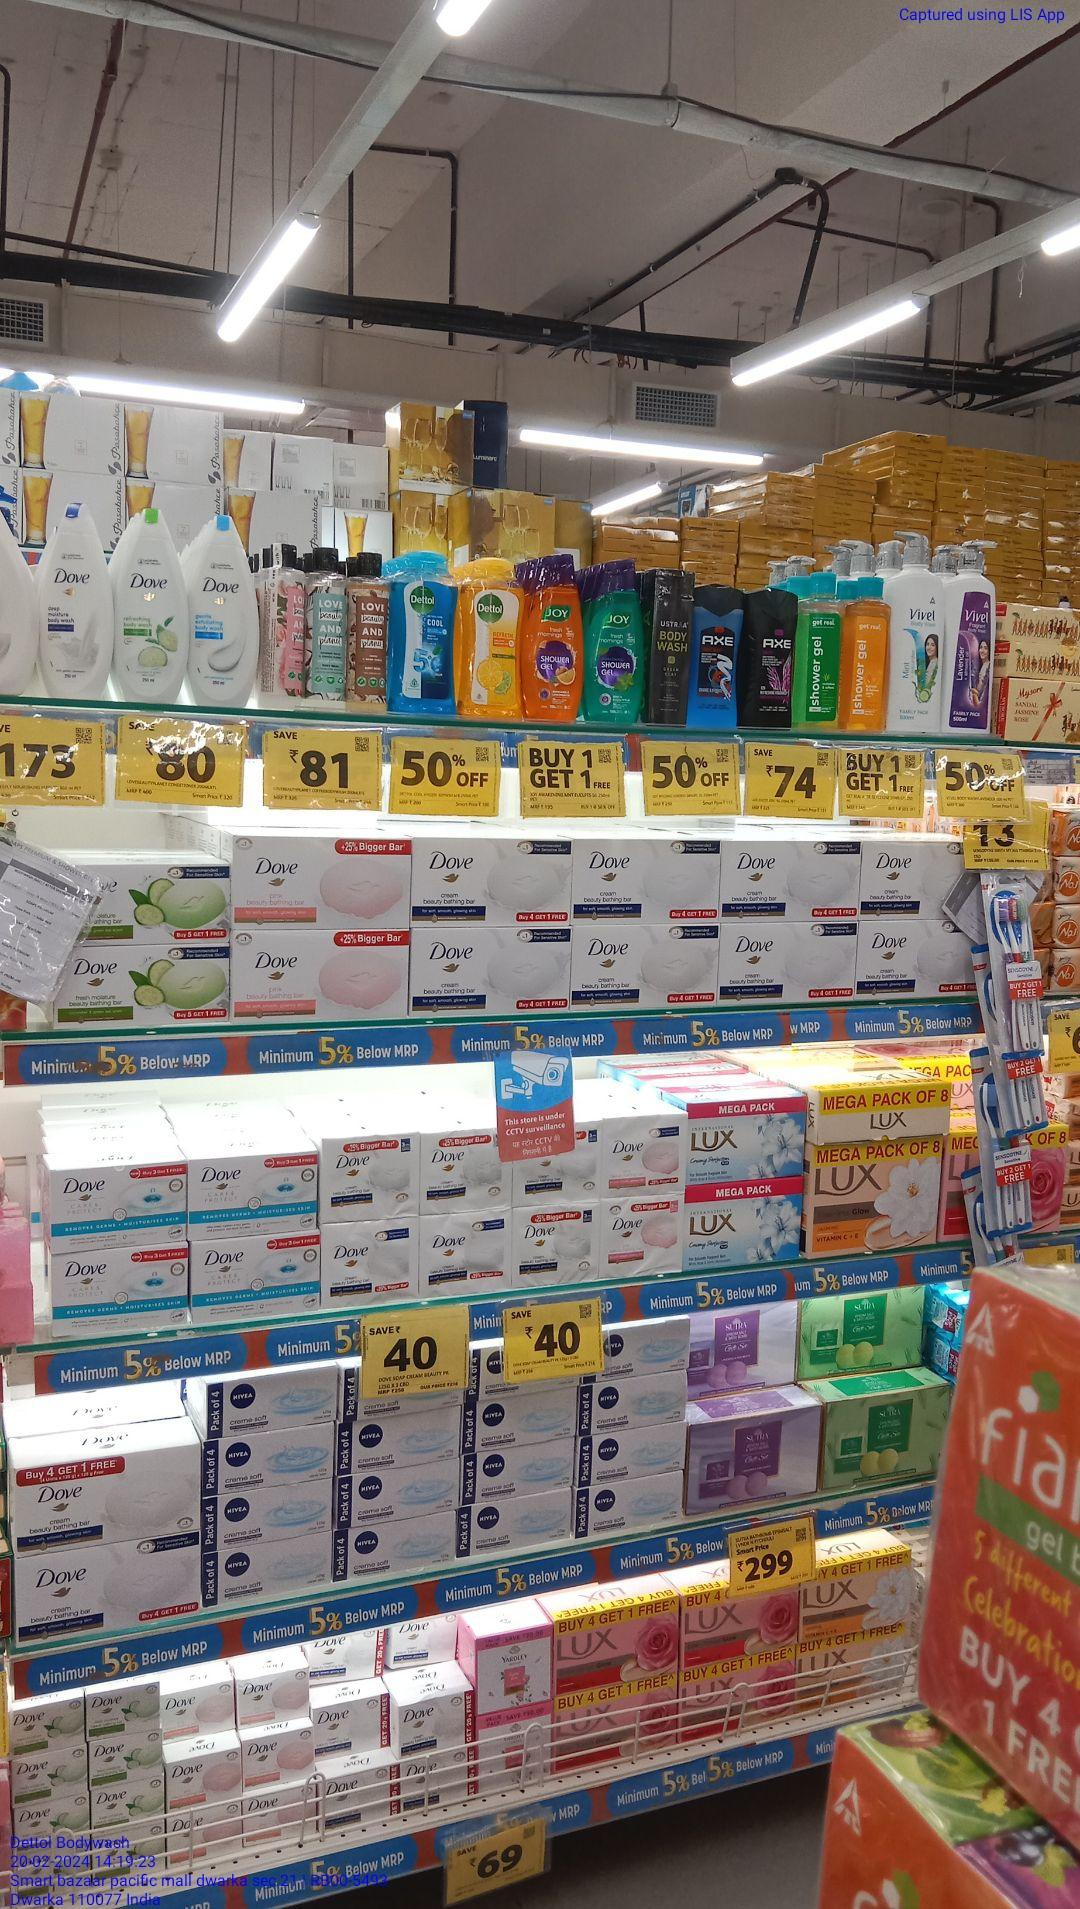Dettol_Bodywash_Cool: (392, 547, 457, 715)
Dettol_Bodywash_Refresh: (461, 557, 523, 718)
Dove_Deep_Moisture_Body_Wash_250ML: (39, 502, 114, 696)
Dove_Gentle_Exfoliating_Body_Wash_250ML: (194, 505, 260, 711)
Dove_Refreshing_Body_Wash_250ML: (118, 506, 190, 701)
Joy_Shower_Gel_Mandarin_and_Lemongrass_250ML: (527, 555, 585, 721)
Joy_Shower_Gel_Mint_and_Eucalyptus_250ML: (590, 559, 645, 724)
